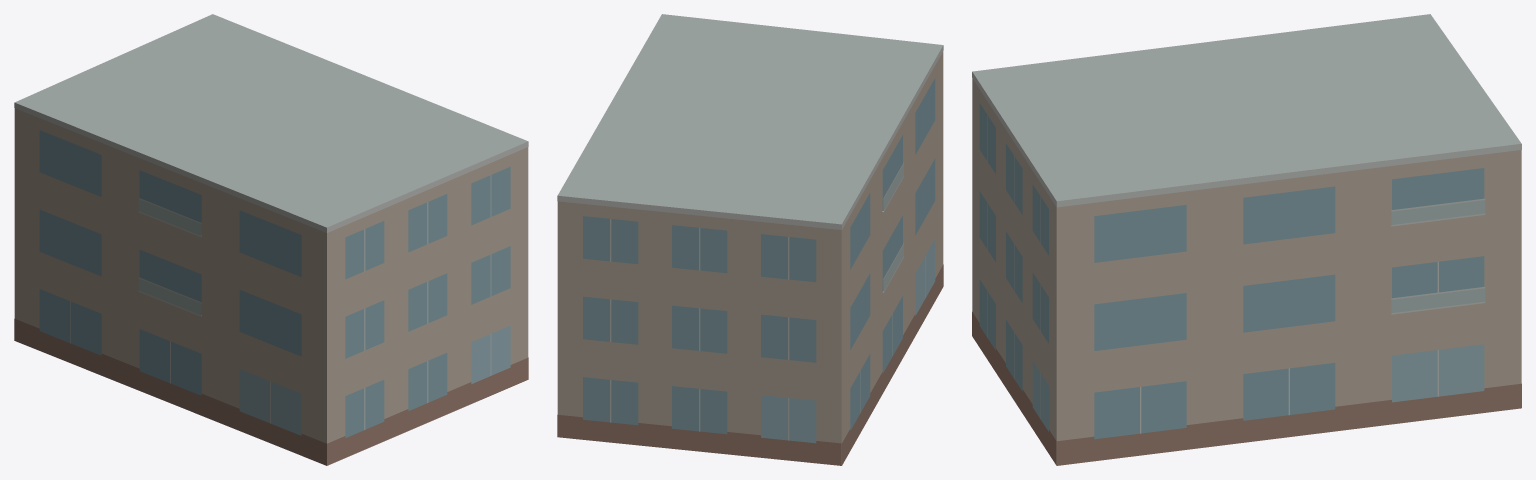
Rendered from survey-upis-32813373.glb.
3 renders of one model, left to right at view 1: azimuth 30°, elevation 25°; view 2: azimuth 150°, elevation 25°; view 3: azimuth 270°, elevation 25°, orthographic. The views are drawn at different scales.
Visible parts, largest first — view 1: survey-upis-32813373.tmp; view 2: survey-upis-32813373.tmp; view 3: survey-upis-32813373.tmp.
Boxes of the visible parts, <box> form: survey-upis-32813373.tmp: <box>14,14,528,465</box>; survey-upis-32813373.tmp: <box>557,14,943,465</box>; survey-upis-32813373.tmp: <box>972,14,1521,465</box>.
Bounding box in the file's own units: 16.03 × 10.55 × 19.88.
